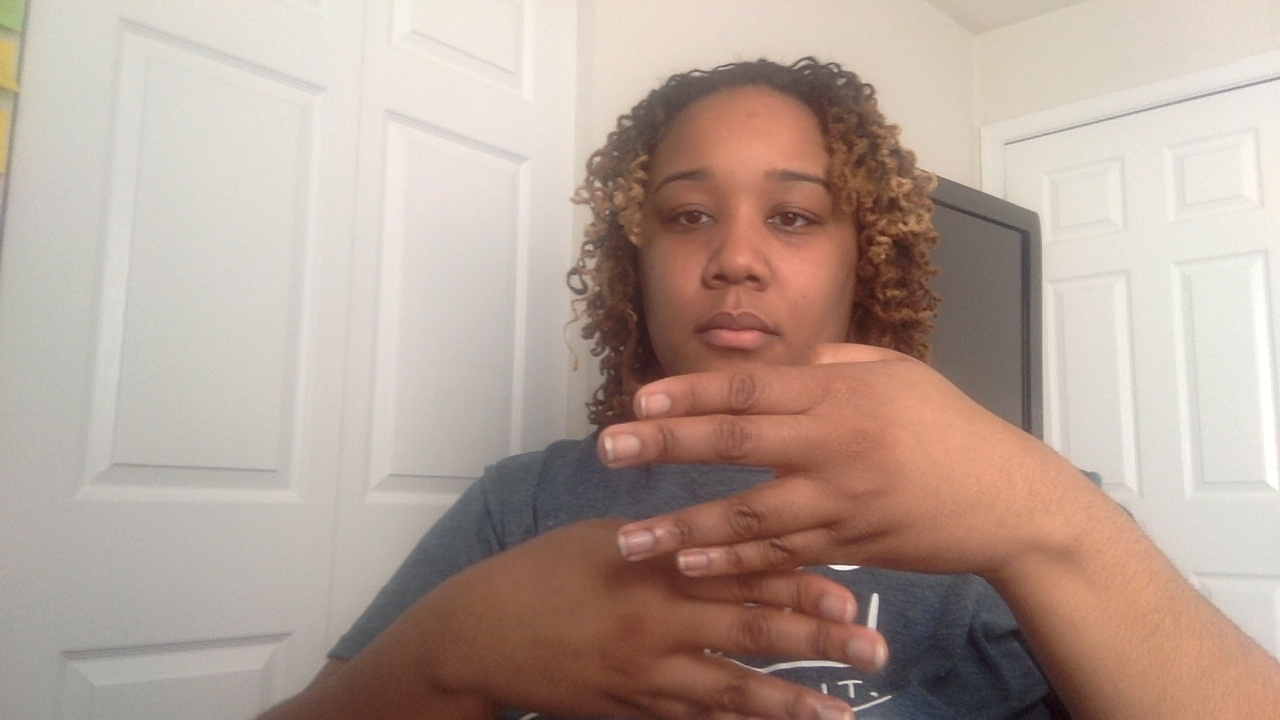world: (386, 343, 1019, 720)
